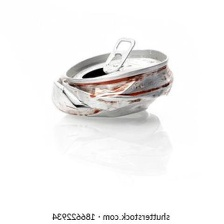can: (48, 34, 176, 118)
